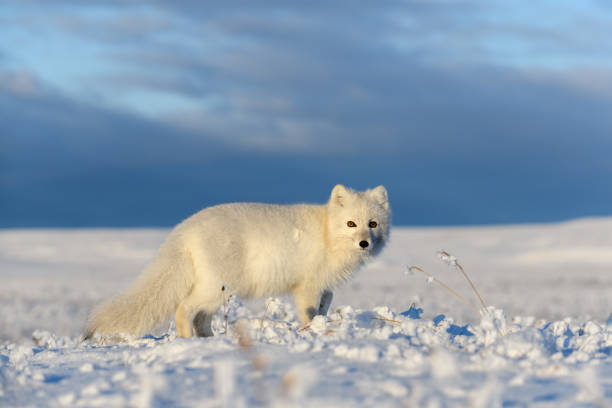arcticfox: (328, 189, 398, 278)
